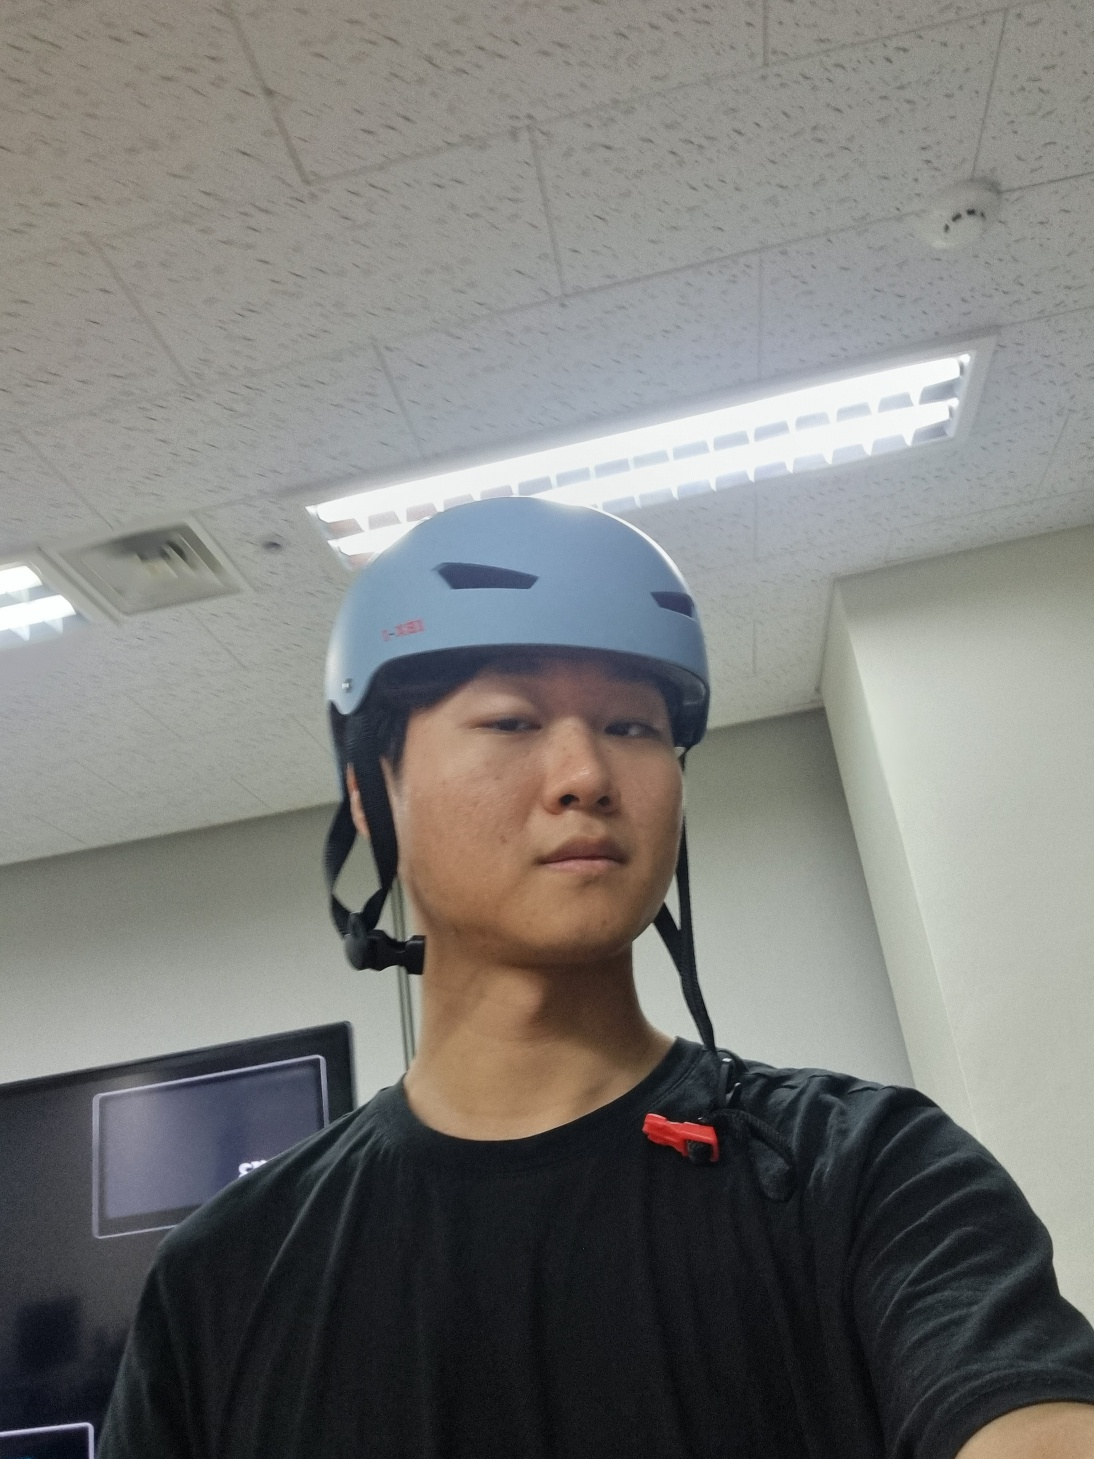Helmet: (282, 478, 794, 1049)
